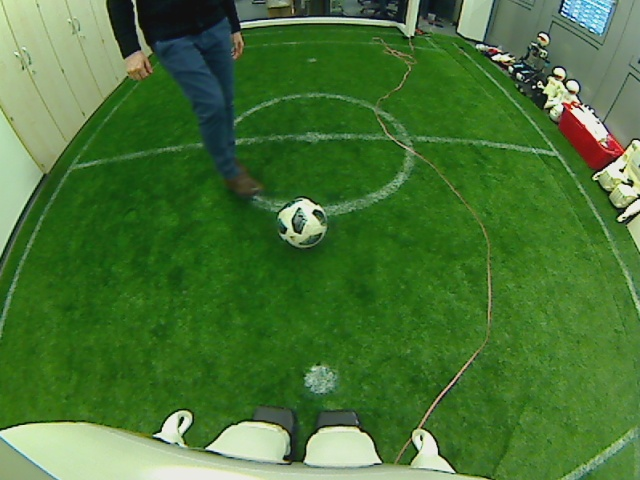ball: (272, 194, 329, 248)
